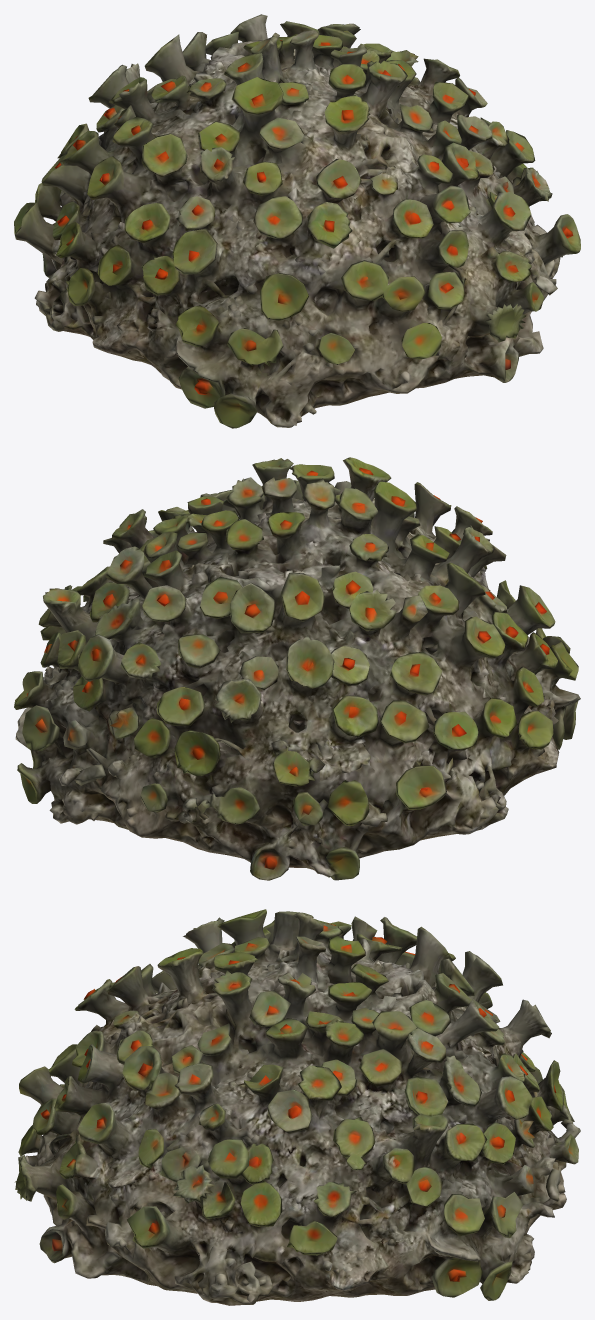
The model's file is zoanthid_rock.glb.
3 renders of one model, top to bottom at view 1: azimuth 30°, elevation 25°; view 2: azimuth 150°, elevation 25°; view 3: azimuth 270°, elevation 25°, orthographic. The views are drawn at different scales.
Parts seen in each view (by area): view 1: tripo_node_71783098-475b-4414-8d69-0adc3e84e40b; view 2: tripo_node_71783098-475b-4414-8d69-0adc3e84e40b; view 3: tripo_node_71783098-475b-4414-8d69-0adc3e84e40b.
Boxes of the visible parts, box(x1,y1,x2,y2) form: tripo_node_71783098-475b-4414-8d69-0adc3e84e40b: box(14, 14, 580, 428); tripo_node_71783098-475b-4414-8d69-0adc3e84e40b: box(14, 457, 580, 880); tripo_node_71783098-475b-4414-8d69-0adc3e84e40b: box(14, 909, 580, 1305).
Bounding box in the file's own units: 0.9715 × 0.6237 × 1.
Materials: 1 (1 with a texture image).
